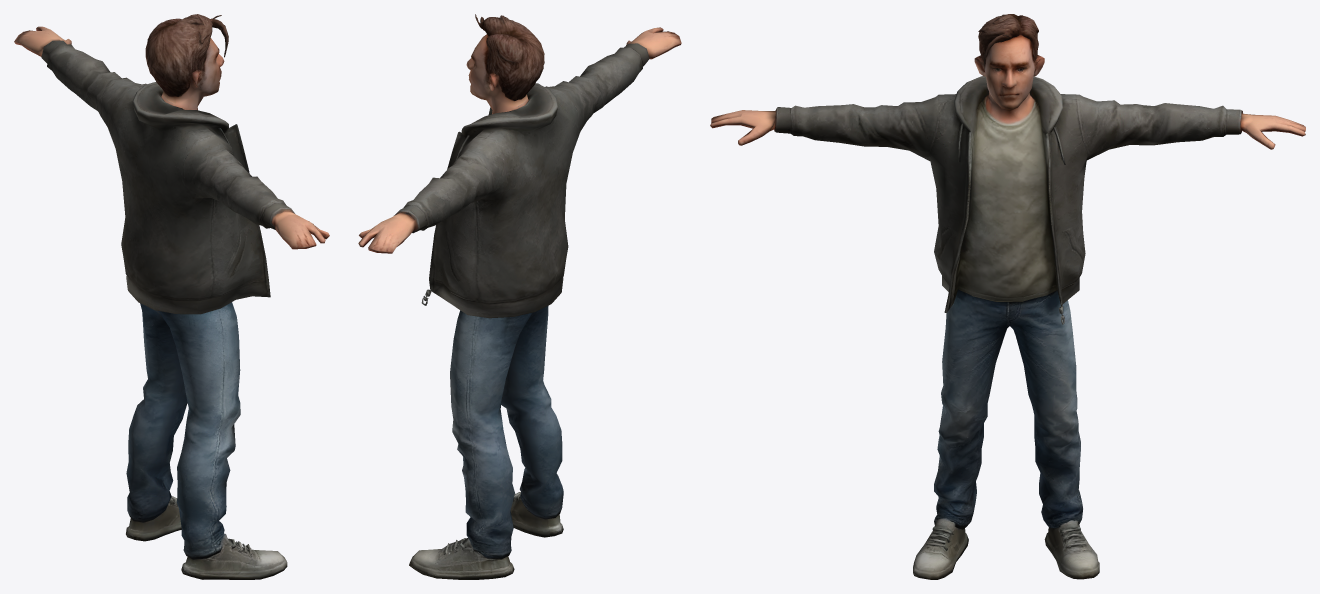
File: apocalypse_survivor.glb
3 renders of one model, left to right at view 1: azimuth 30°, elevation 25°; view 2: azimuth 150°, elevation 25°; view 3: azimuth 270°, elevation 25°, orthographic.
Parts seen in each view (by area): view 1: tripo_node_da9df3f2-8462-4709-9ecc-b556618ca75a; view 2: tripo_node_da9df3f2-8462-4709-9ecc-b556618ca75a; view 3: tripo_node_da9df3f2-8462-4709-9ecc-b556618ca75a.
Boxes of the visible parts, left/top/right/bottom form: tripo_node_da9df3f2-8462-4709-9ecc-b556618ca75a: left=14, top=14, right=329, bottom=579; tripo_node_da9df3f2-8462-4709-9ecc-b556618ca75a: left=358, top=14, right=681, bottom=579; tripo_node_da9df3f2-8462-4709-9ecc-b556618ca75a: left=710, top=14, right=1305, bottom=579.
Size of the model in its own units: 0.2207 by 0.998 by 0.998.
1 material, 1 textured.
